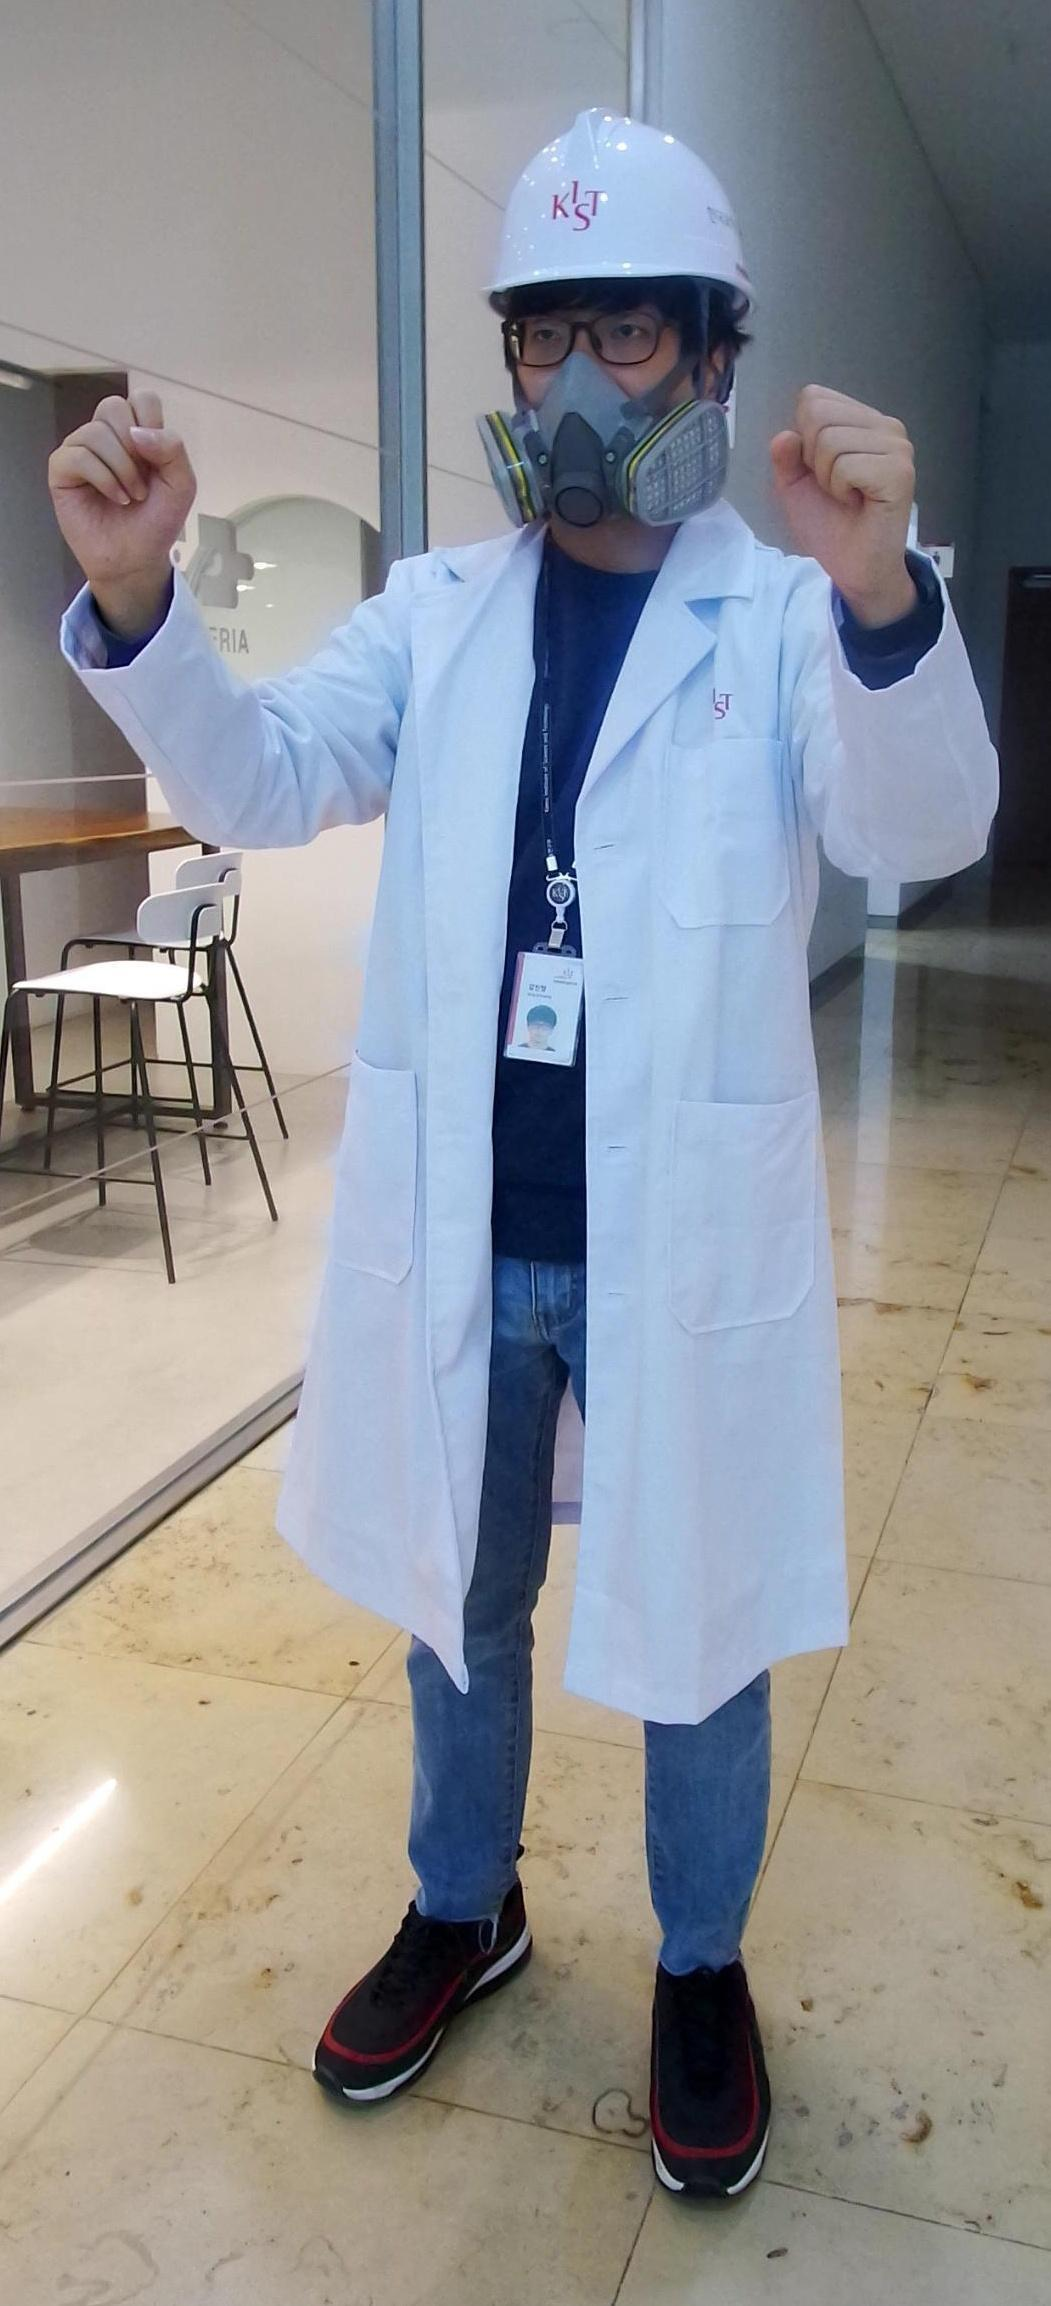lab_coat: (284, 566, 831, 1631)
